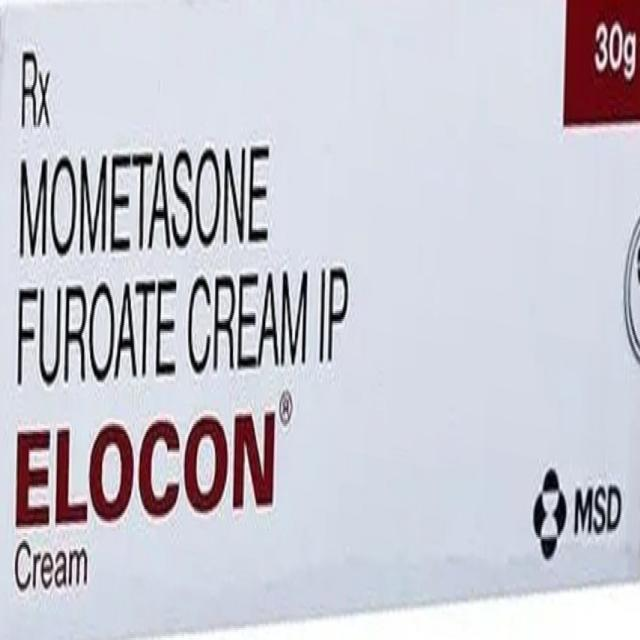drug-name: (4, 386, 296, 530)
